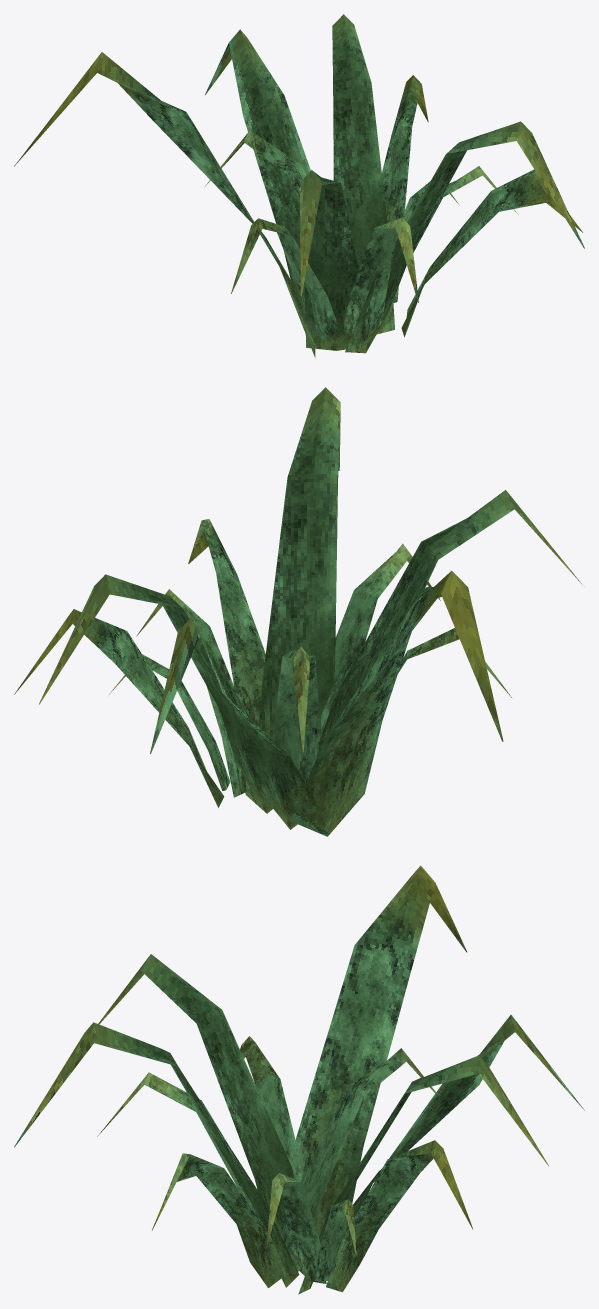
The model's file is grass_02.glb.
The picture shows the model from 3 angles, top to bottom: view 1: azimuth 30°, elevation 25°; view 2: azimuth 150°, elevation 25°; view 3: azimuth 270°, elevation 25°; orthographic projection. The views are drawn at different scales.
Parts seen in each view (by area): view 1: GRASS_02-no-col; view 2: GRASS_02-no-col; view 3: GRASS_02-no-col.
Part boxes in pixels (box(x1,y1,x2,y2)): GRASS_02-no-col: box(14, 14, 584, 357); GRASS_02-no-col: box(14, 387, 582, 836); GRASS_02-no-col: box(14, 865, 584, 1294).
Bounding box in the file's own units: 1.56 × 1.09 × 1.74.
Materials: 1 (1 with a texture image).
